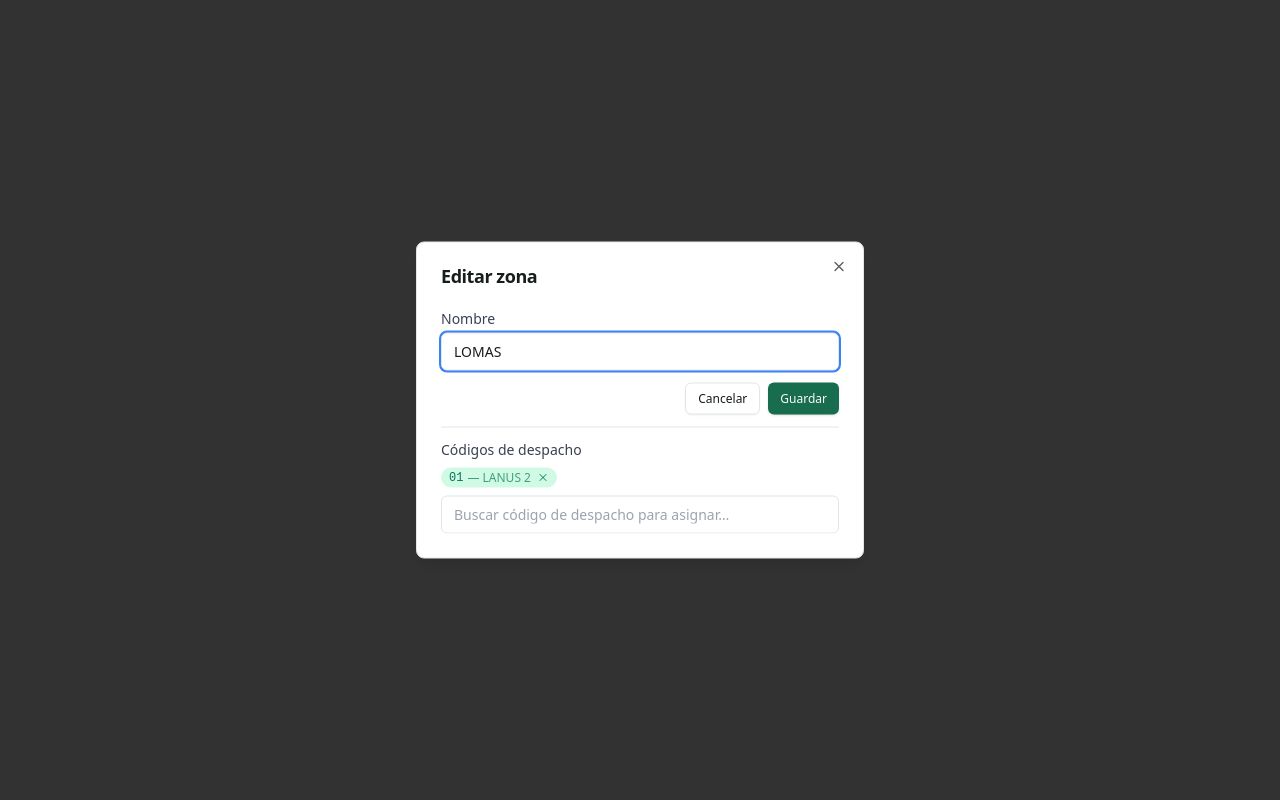
Test case: ZonaModal — edición › un resultado de búsqueda con la MISMA zona actual no muestra el aviso "zona: N"
The image size is (1280, 800).
Type "per" into the field with placeholder "Buscar código de despacho para asignar…" at x=640, y=514, box [441,496,839,534]
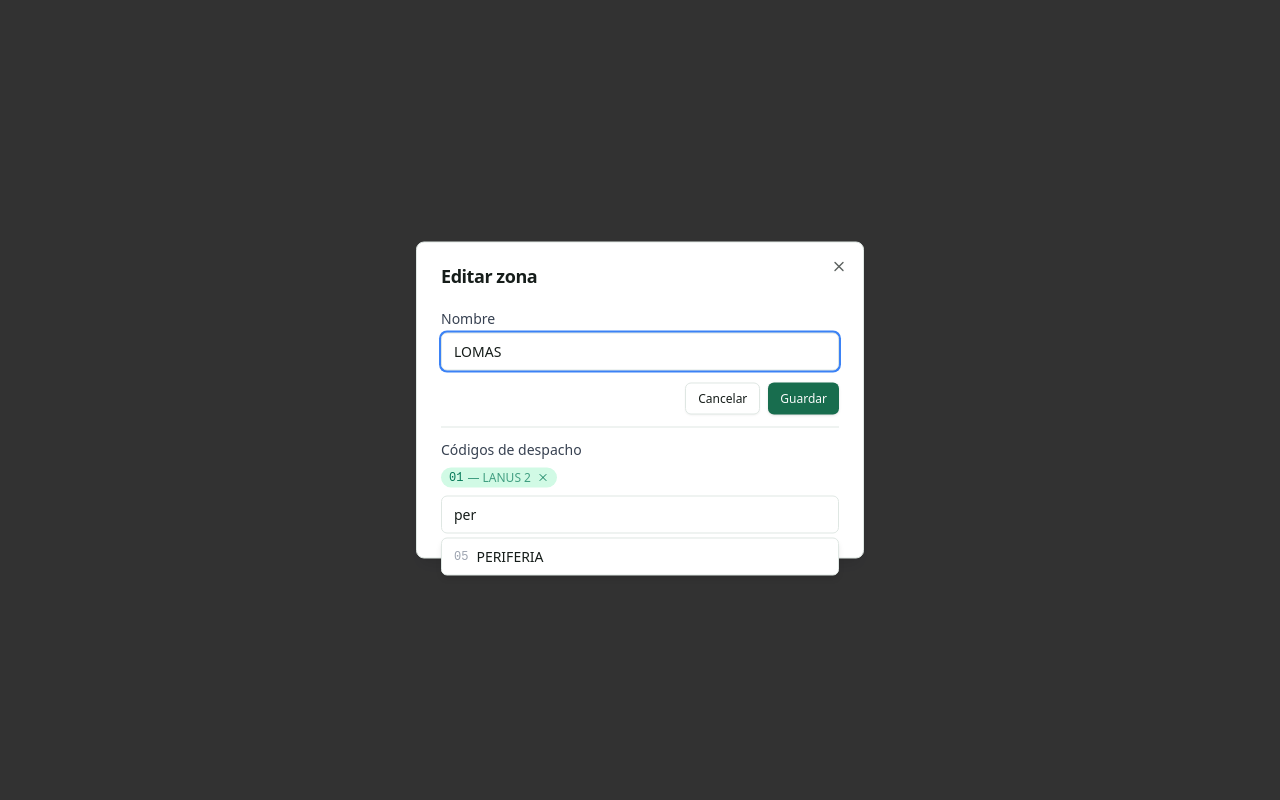
Now the text "PERIFERIA" is shown, box [476,546,544,566]
